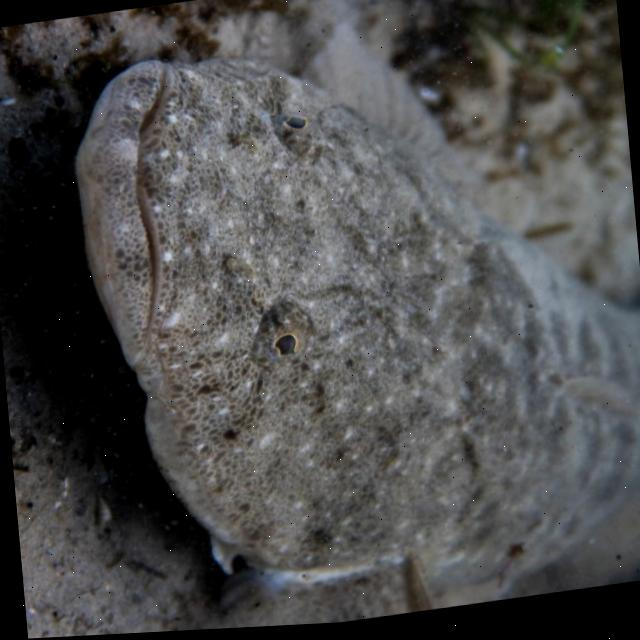Flathead: (34, 0, 640, 639)
